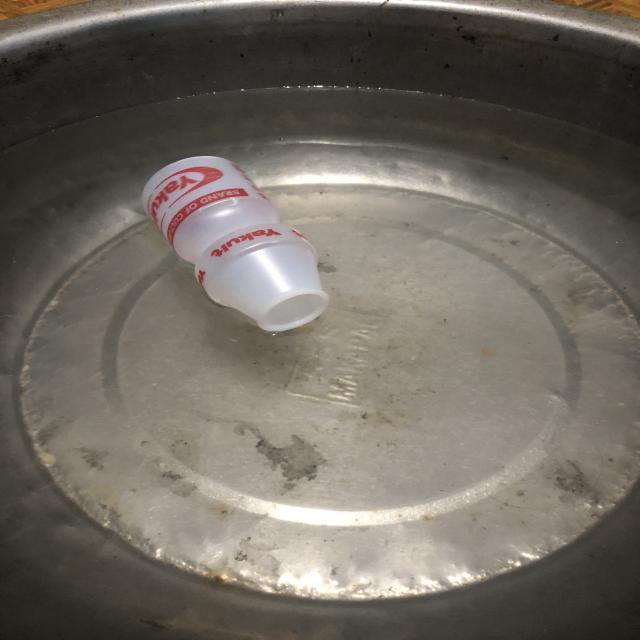Plastic Bottle: (130, 126, 353, 370)
